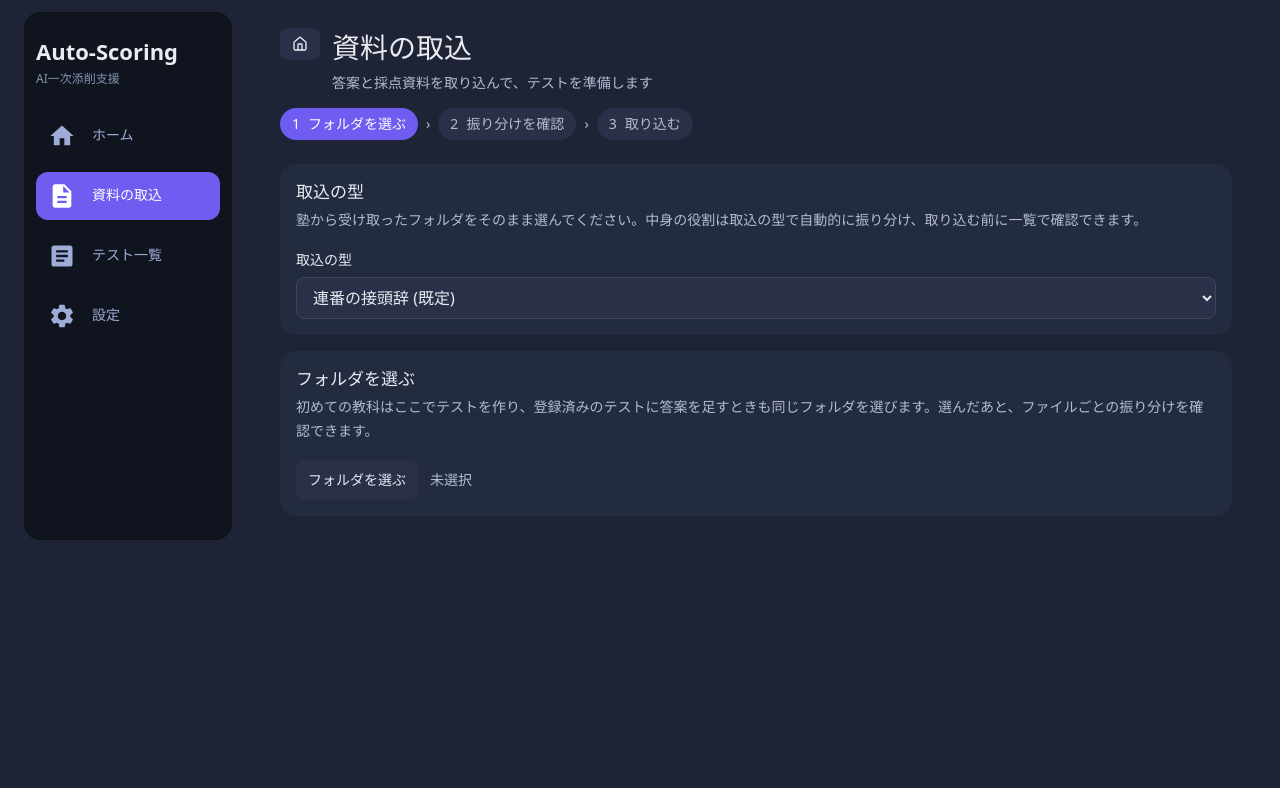
Scenario: IntakePage invariants › INV-131: partial failure keeps earlier submissions
expect the dropdown with test id "intake-template-picker" is shown: met, box [296,277,1216,319]
Click the button with test id "intake-choose-folder": (357, 480) [296,460,418,500]
(page scrolled)
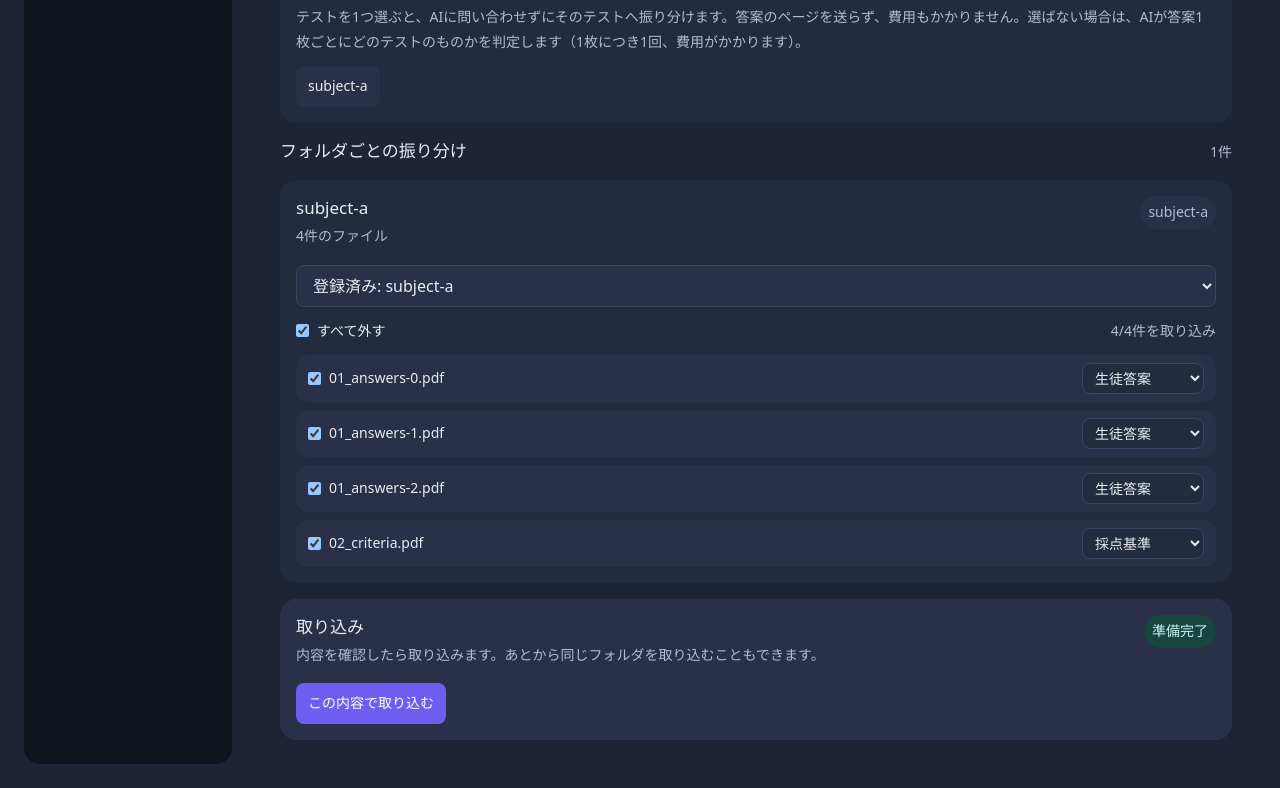
Click the button with test id "intake-import": (371, 704) [296,684,446,724]
(page scrolled)
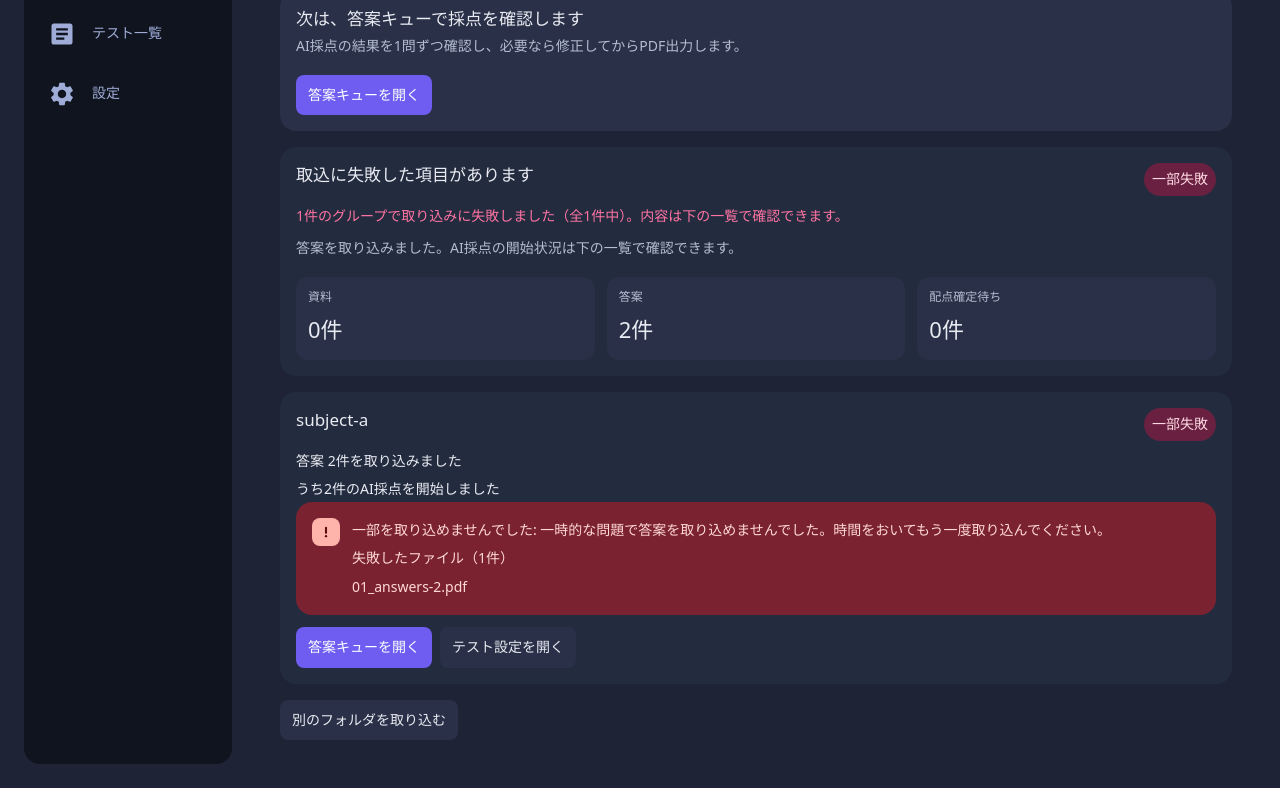
expect the element with test id "intake-outcome-subject-a" is shown: met, box [280,392,1232,684]
expect the text "取り込めませんでした" is shown: met, box [352,520,1111,539]
